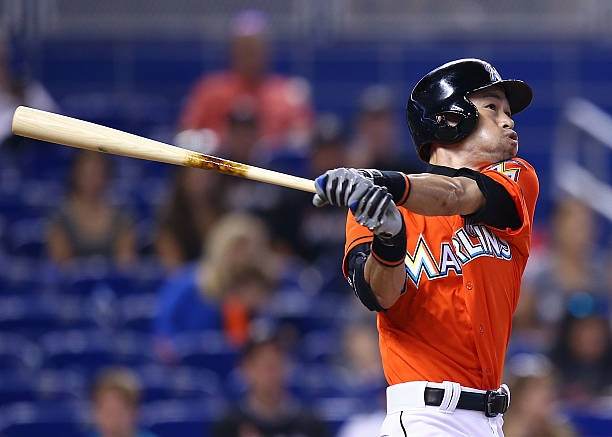bita: (10, 104, 352, 204)
